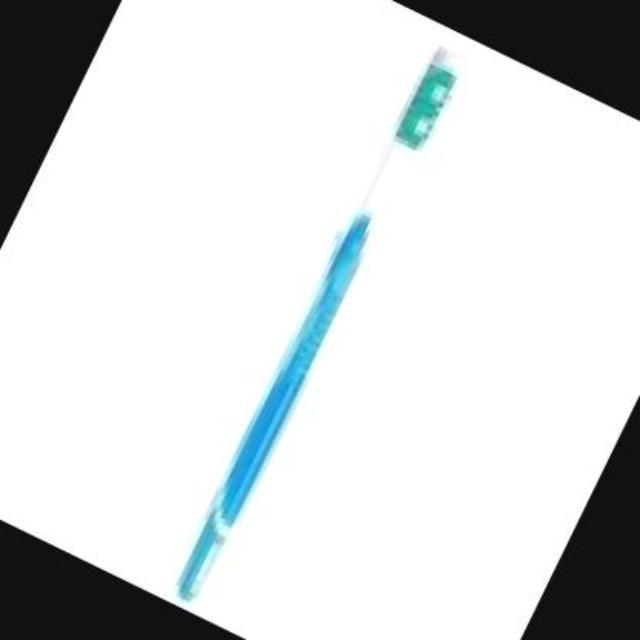toothbrush: (123, 9, 503, 625)
